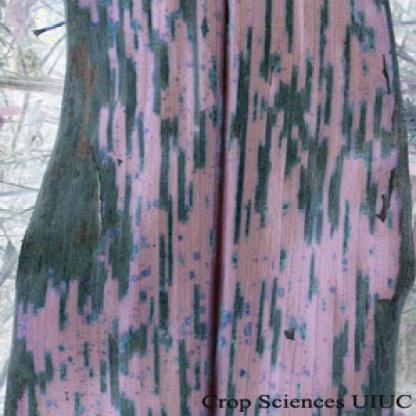corn gray leaf spot: (14, 2, 410, 415)
